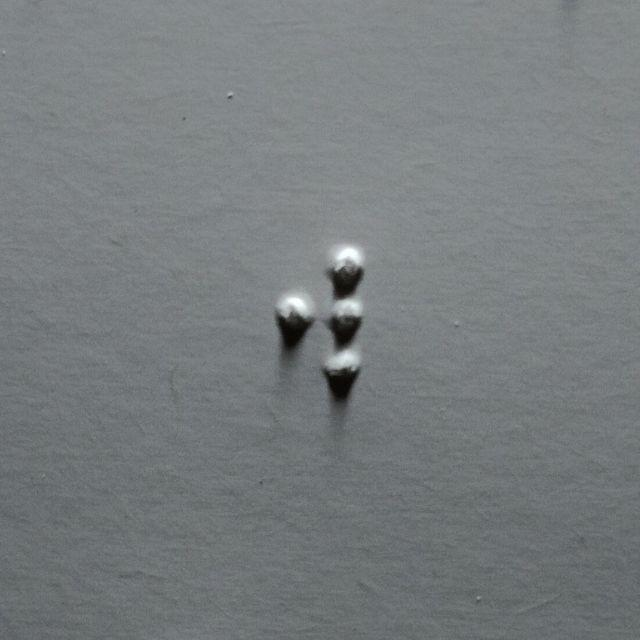w: (276, 245, 365, 388)
